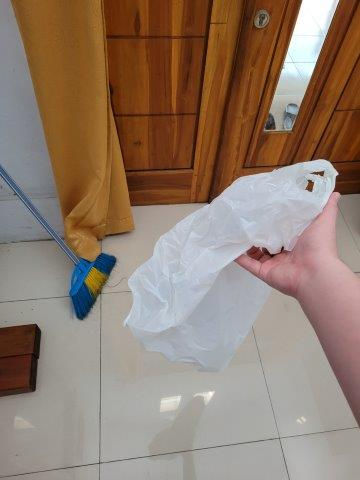plastik: (127, 158, 339, 381)
